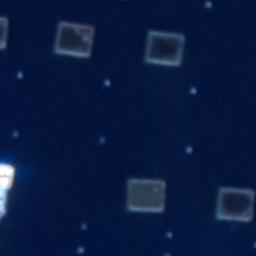square_cover: (138, 24, 188, 70), (50, 17, 101, 61), (123, 172, 169, 215), (212, 183, 255, 225)
